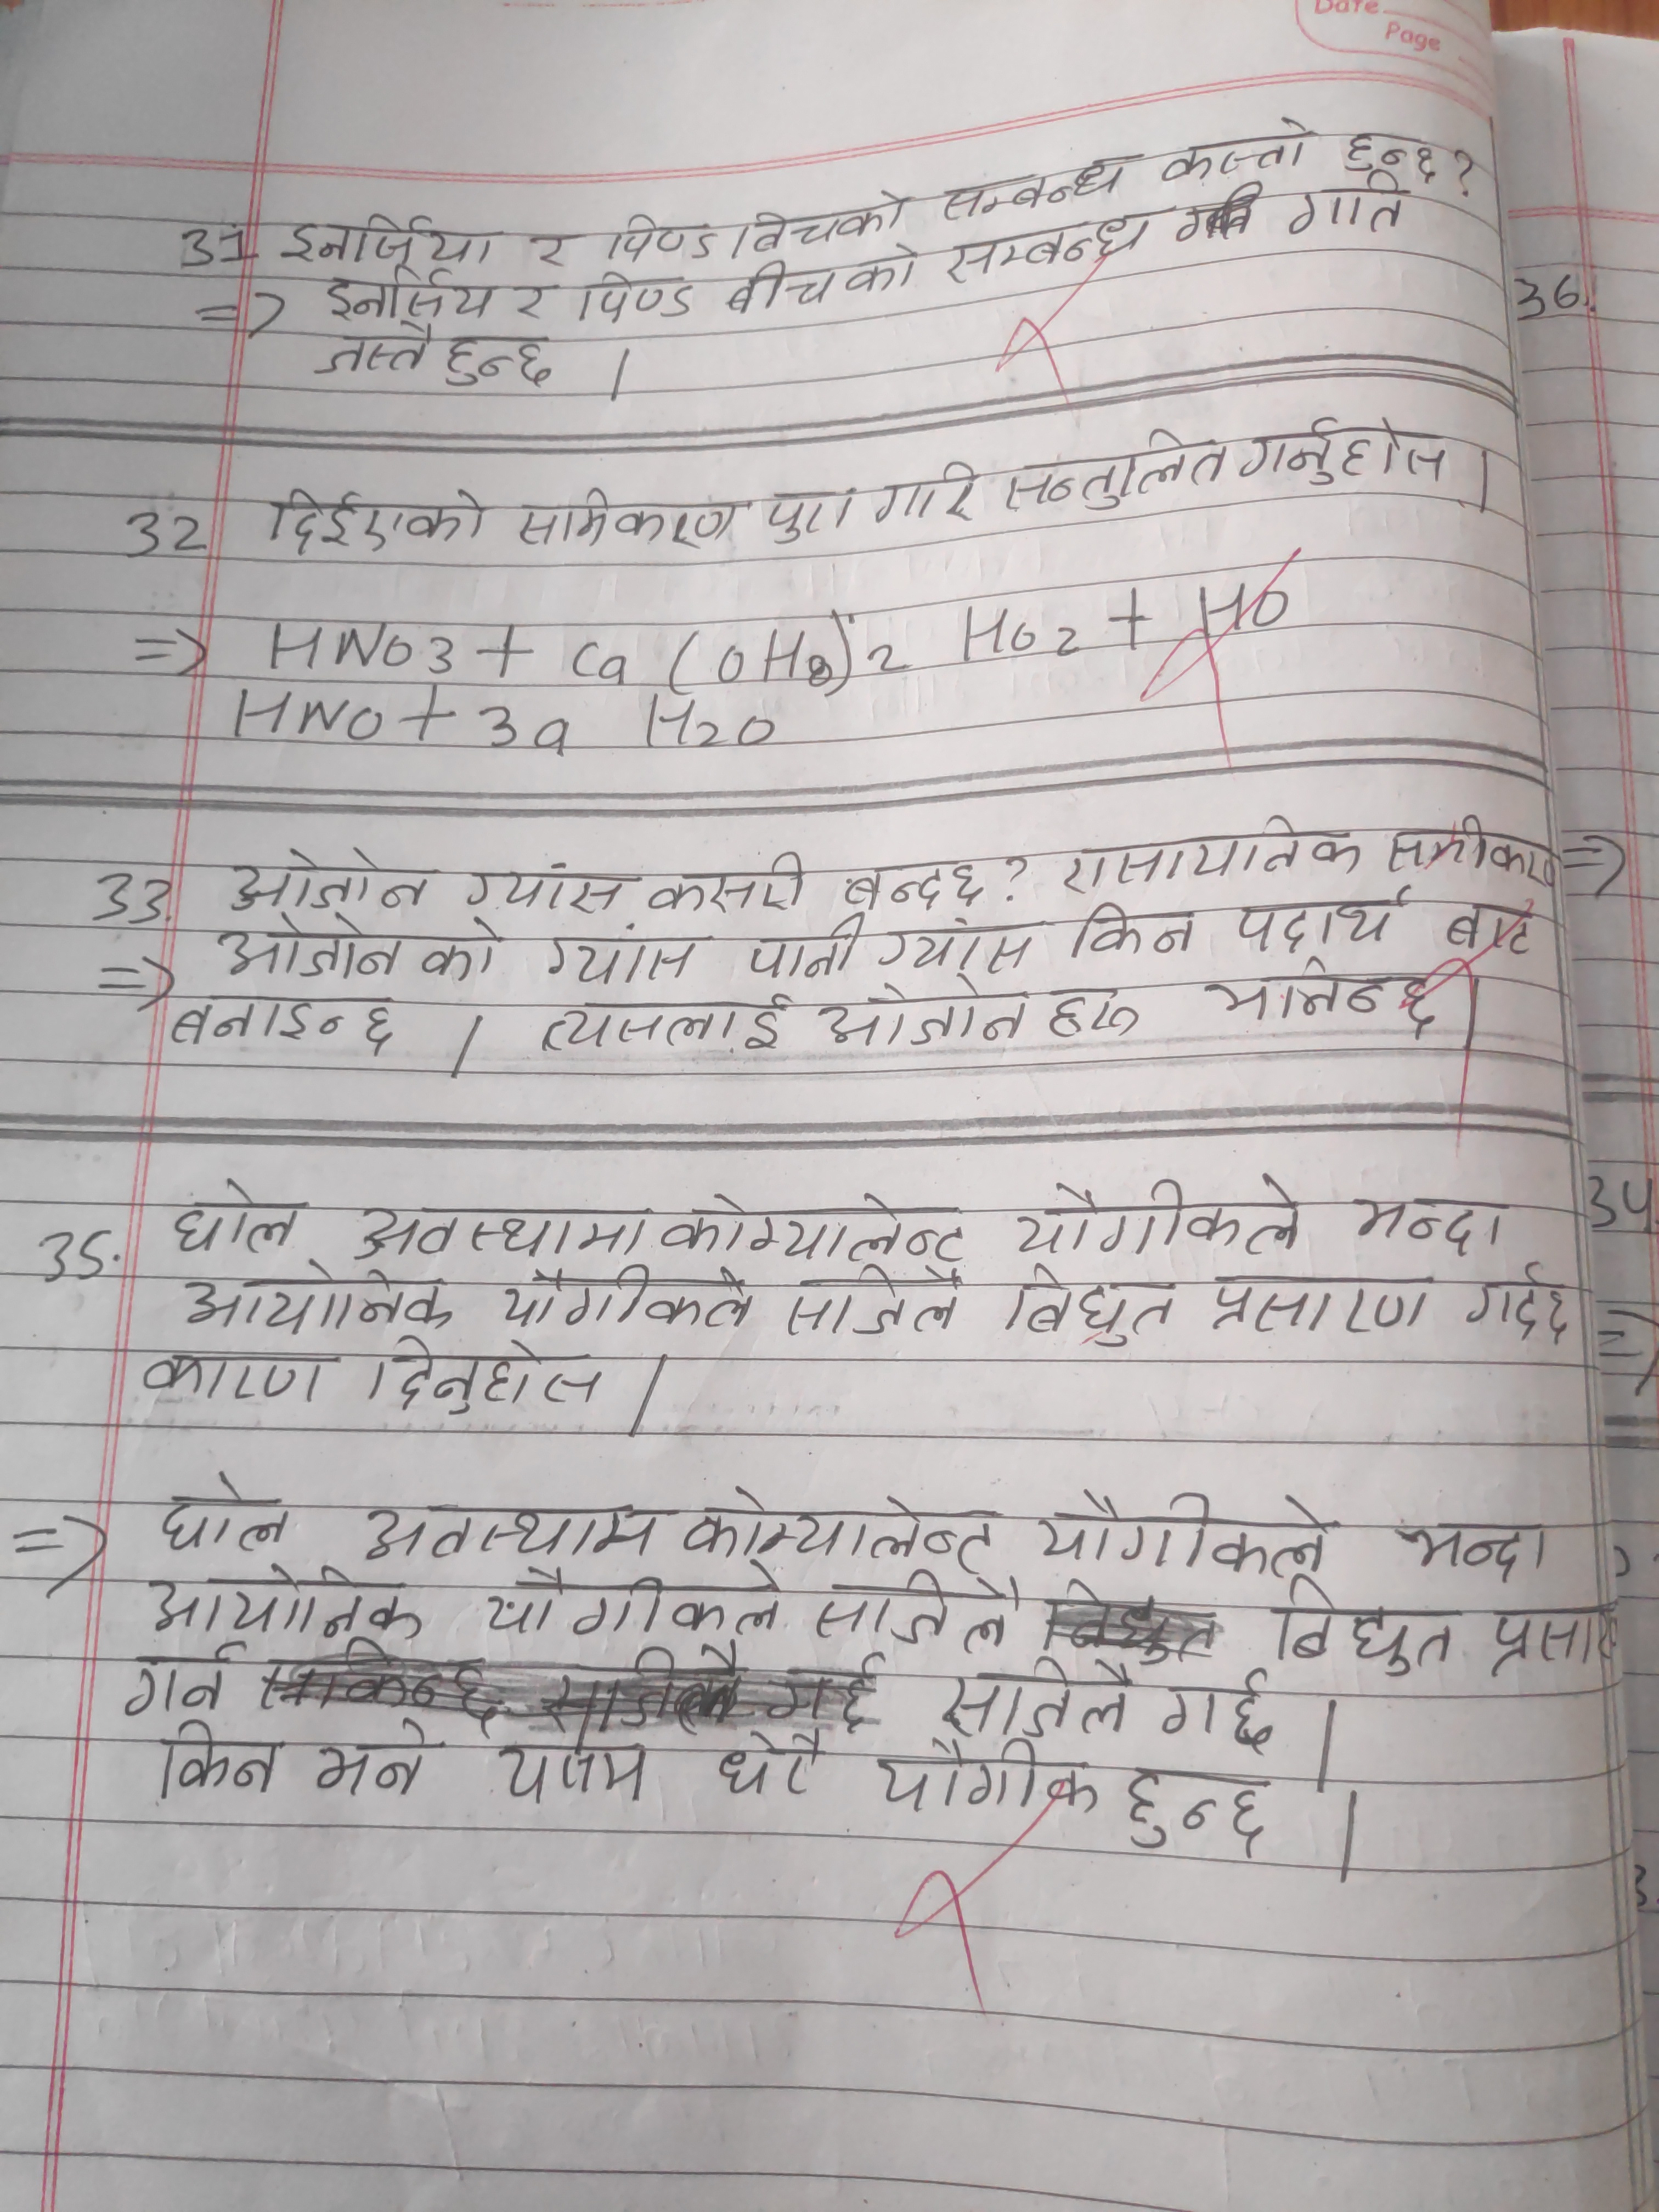text: (1032, 1477, 1333, 1587), (674, 1480, 1007, 1578), (1044, 803, 1377, 892), (1004, 1172, 1312, 1261), (141, 1559, 429, 1649), (465, 1557, 789, 1637), (342, 1186, 655, 1264), (356, 1494, 673, 1569), (662, 1188, 971, 1264), (216, 904, 509, 982), (1000, 421, 1234, 519), (870, 1737, 1103, 1827), (159, 982, 404, 1068), (162, 1270, 457, 1339), (936, 206, 1164, 293), (497, 1263, 765, 1336), (373, 1339, 612, 1421), (1230, 408, 1453, 493), (535, 993, 798, 1064), (1213, 956, 1438, 1038), (511, 477, 749, 554), (1202, 1263, 1441, 1339), (932, 1658, 1134, 1745), (1270, 1590, 1464, 1679), (260, 481, 488, 556), (810, 1569, 1018, 1651), (716, 247, 927, 320), (1114, 1766, 1274, 1862), (772, 1264, 976, 1339), (218, 845, 436, 914), (812, 979, 1028, 1049), (995, 1263, 1178, 1343), (1382, 810, 1558, 892), (305, 1710, 450, 1806), (284, 211, 498, 275), (148, 1465, 293, 1559), (1389, 1505, 1554, 1587), (1349, 1186, 1525, 1261), (723, 188, 922, 254), (1152, 1663, 1284, 1763), (136, 1343, 331, 1409), (167, 1169, 303, 1263), (939, 153, 1138, 216), (462, 848, 640, 918), (146, 1717, 286, 1804), (537, 923, 718, 989), (497, 1737, 650, 1813), (1237, 885, 1410, 953), (1483, 1601, 1619, 1683), (312, 263, 498, 322), (1161, 117, 1317, 186), (866, 909, 1040, 972), (640, 855, 819, 914), (122, 1641, 244, 1724), (1072, 897, 1204, 972), (573, 256, 702, 333), (1037, 972, 1154, 1050), (1466, 1270, 1579, 1346), (1286, 167, 1408, 237), (836, 860, 988, 916), (868, 463, 988, 531), (1338, 115, 1441, 193), (310, 324, 441, 385), (721, 1730, 833, 1801), (436, 329, 559, 390), (744, 918, 864, 981), (603, 211, 721, 268), (1432, 895, 1544, 954), (758, 488, 866, 545), (523, 219, 591, 268), (509, 277, 561, 319)
